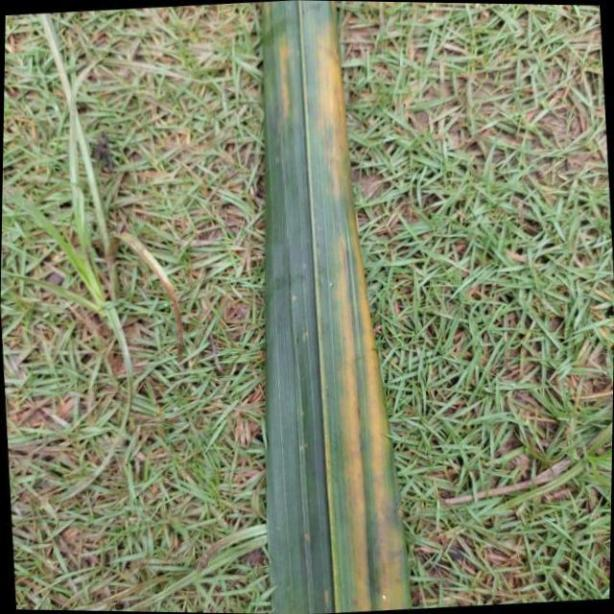Megnesium: (254, 0, 408, 614)
